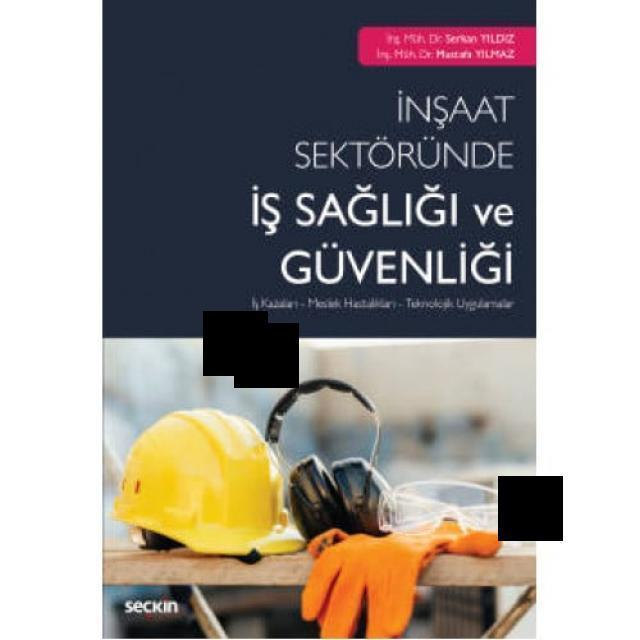yellow helmet: (109, 393, 314, 571)
